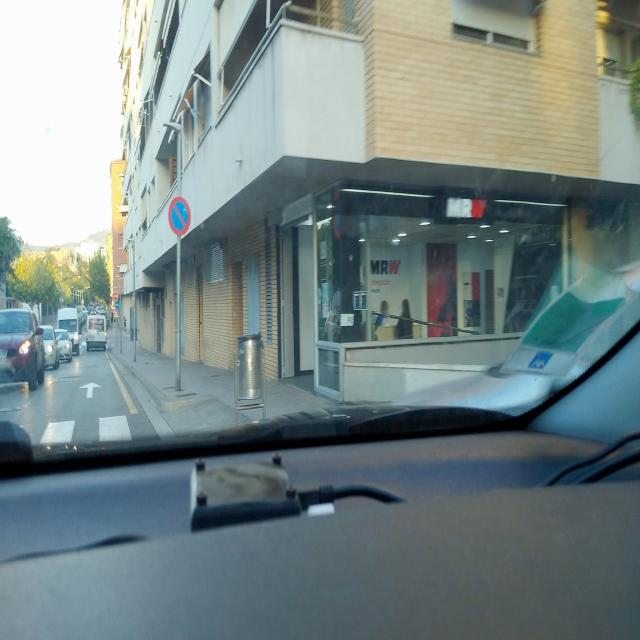car: (0, 306, 45, 392), (56, 308, 81, 356), (39, 324, 60, 370), (86, 316, 108, 352), (55, 328, 73, 362)
